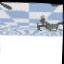drone: (36, 13, 64, 33)
